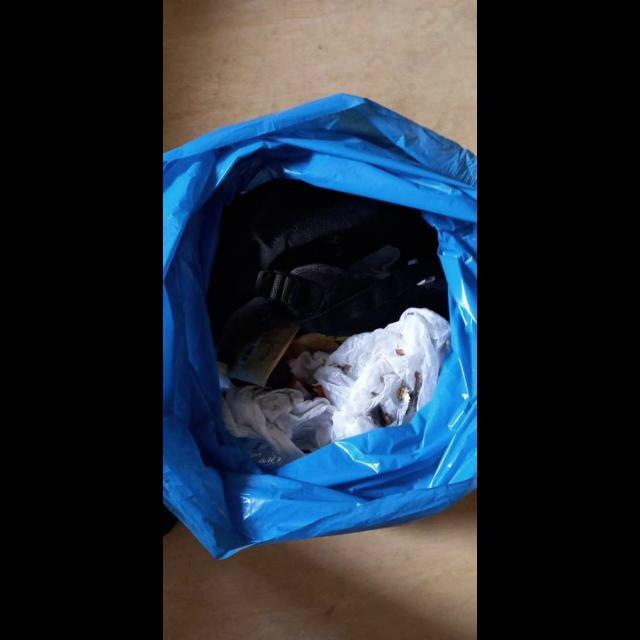food_wrapper: (229, 327, 300, 387)
plastic_bag: (314, 307, 452, 442)
